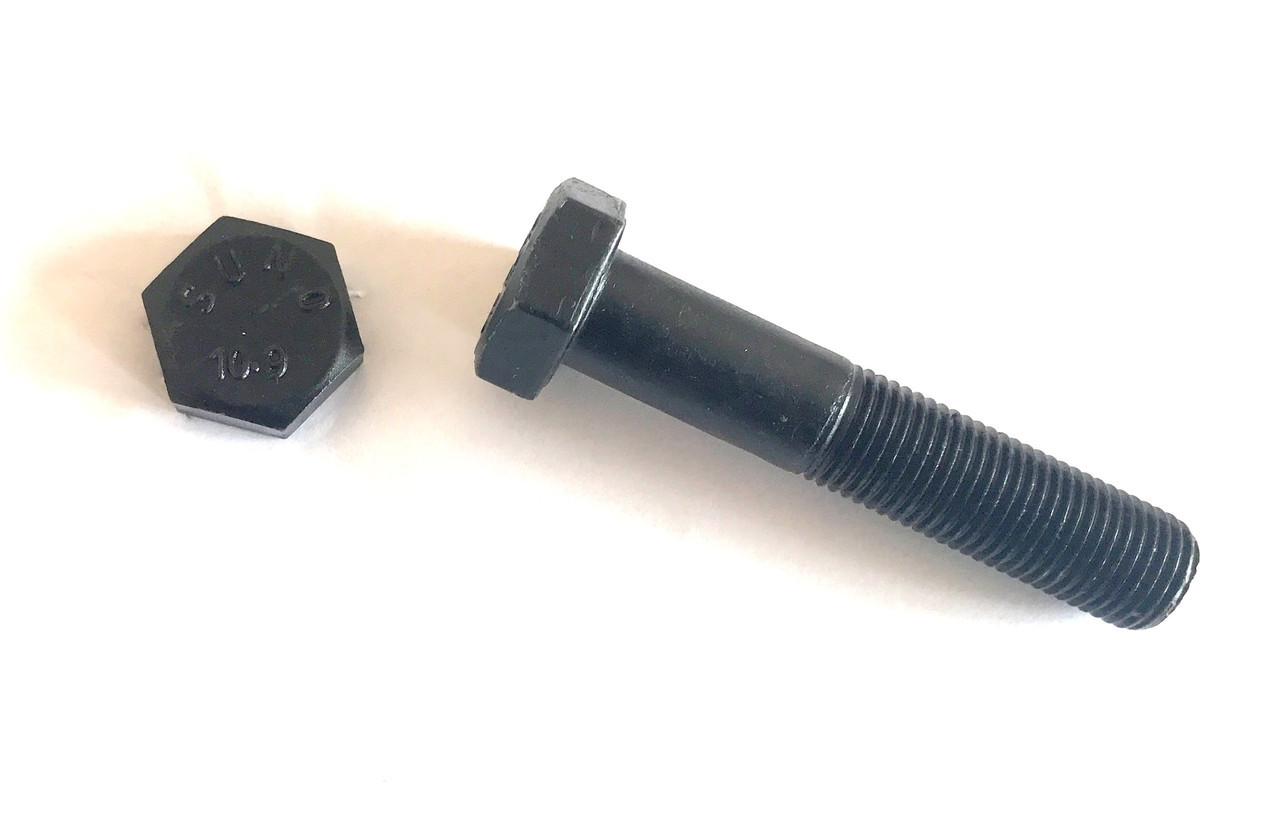screw: (473, 175, 1203, 633)
